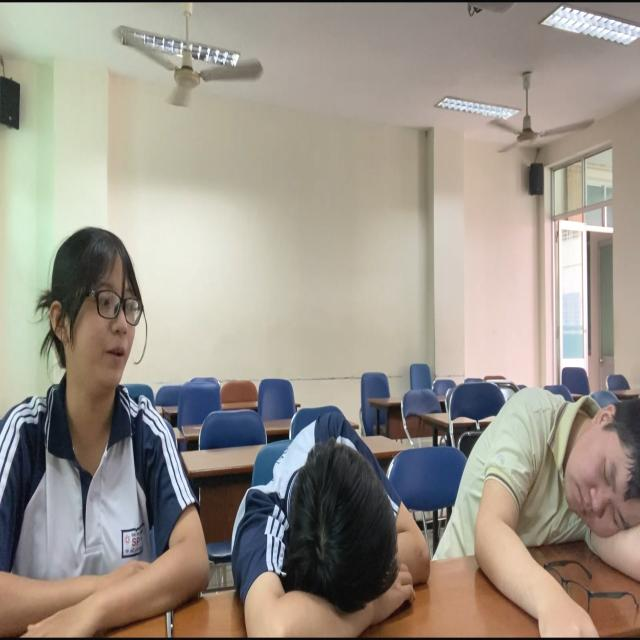sleep: (458, 380, 640, 640), (226, 417, 433, 638)
